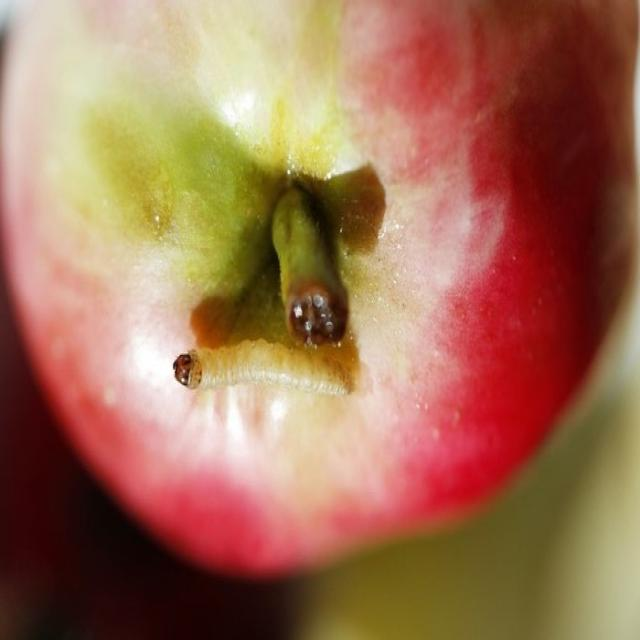worm: (171, 332, 356, 447)
